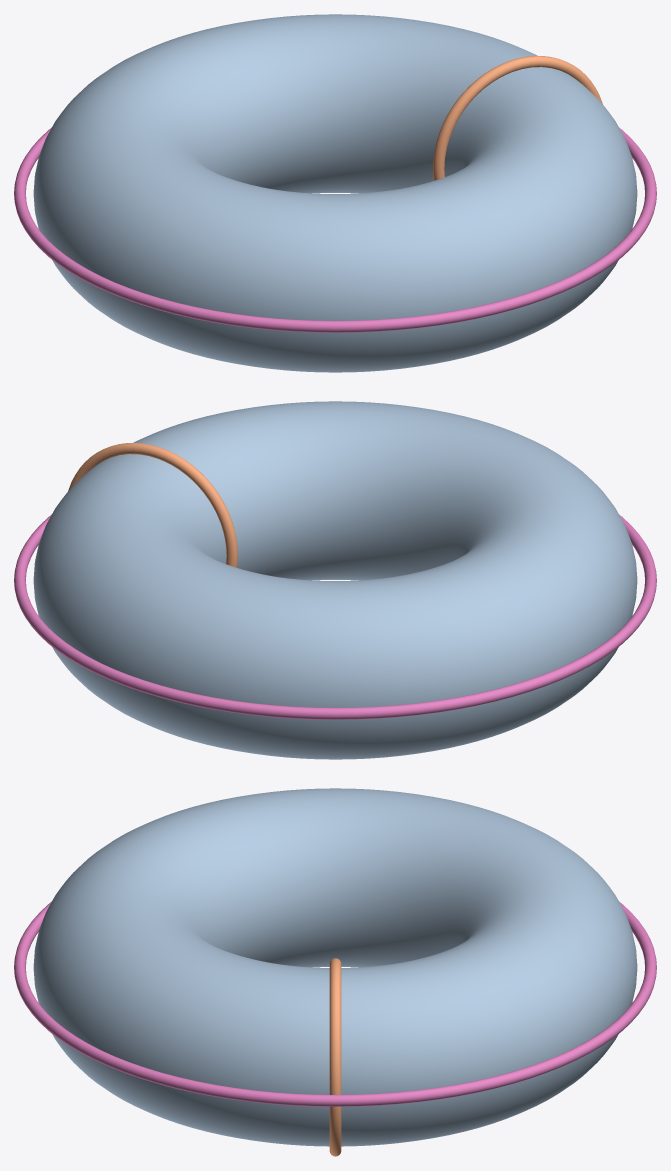
File: torus-loops.glb
3 views of the same model, one above another, from view 1: azimuth 30°, elevation 25°; view 2: azimuth 150°, elevation 25°; view 3: azimuth 270°, elevation 25° (orthographic).
Visible parts, largest first — view 1: Torus, LongitudeLoop, MeridianLoop; view 2: Torus, LongitudeLoop, MeridianLoop; view 3: Torus, LongitudeLoop, MeridianLoop.
Boxes of the visible parts, left/top/right/bottom form: Torus: left=33, top=14, right=637, bottom=372; LongitudeLoop: left=14, top=127, right=656, bottom=332; MeridianLoop: left=433, top=55, right=602, bottom=180; Torus: left=33, top=401, right=637, bottom=759; LongitudeLoop: left=14, top=514, right=656, bottom=719; MeridianLoop: left=68, top=442, right=237, bottom=567; Torus: left=33, top=788, right=637, bottom=1146; LongitudeLoop: left=14, top=901, right=656, bottom=1106; MeridianLoop: left=329, top=958, right=341, bottom=1156.
Size of the model in its own units: 3.02 by 0.9338 by 3.02.
